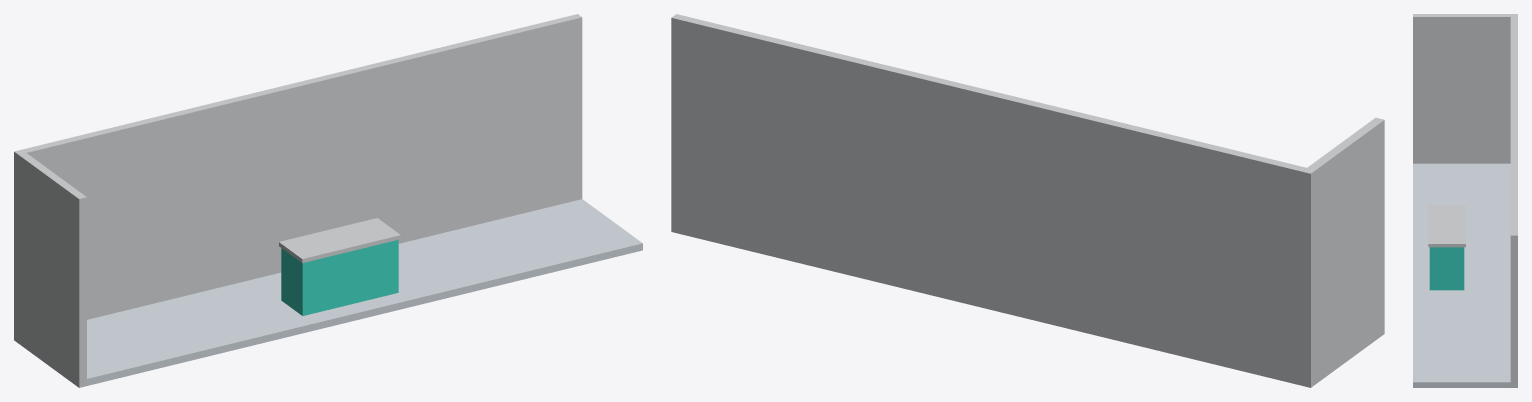
3 views of the same model, side by side, from view 1: azimuth 30°, elevation 25°; view 2: azimuth 150°, elevation 25°; view 3: azimuth 270°, elevation 25° (orthographic). The views are drawn at different scales.
Visible parts, largest first — view 1: Exhibition Booth Concept; view 2: Exhibition Booth Concept; view 3: Exhibition Booth Concept.
Part boxes in pixels (<box>): Exhibition Booth Concept: <box>14,14,642,387</box>; Exhibition Booth Concept: <box>671,14,1384,387</box>; Exhibition Booth Concept: <box>1413,14,1517,387</box>.
Bounding box in the file's own units: 10 × 3.2 × 2.
